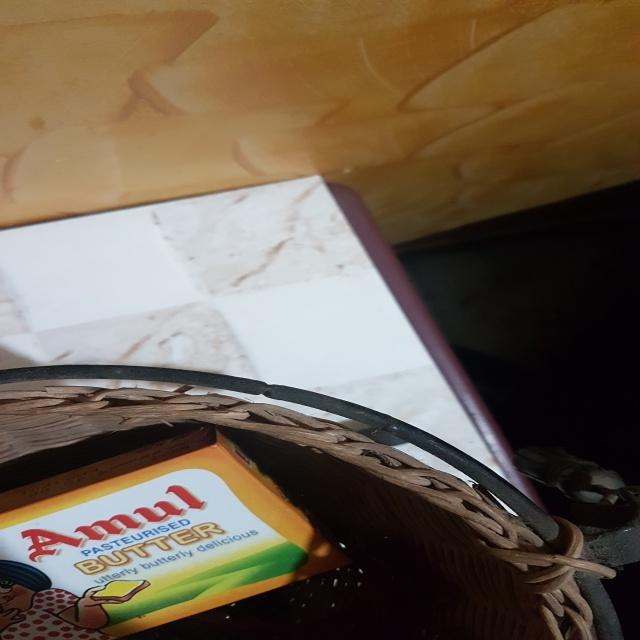butter: (4, 426, 362, 637)
